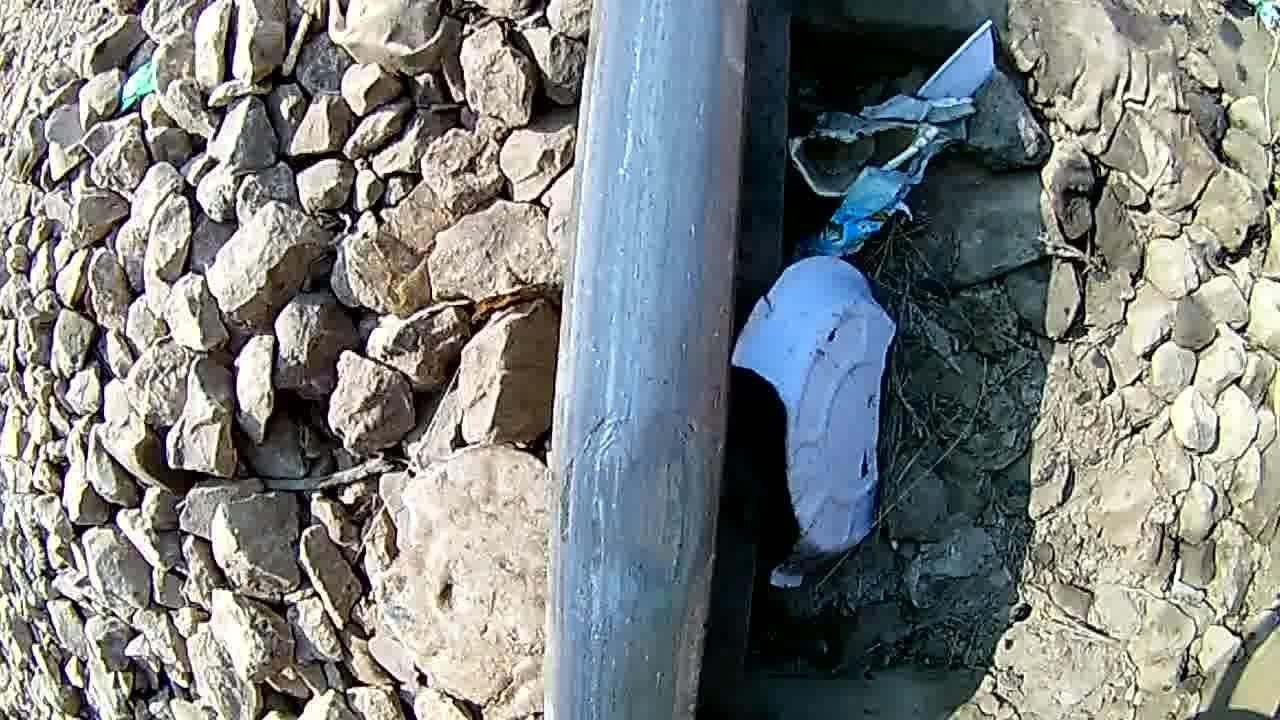crack: (544, 368, 732, 690)
